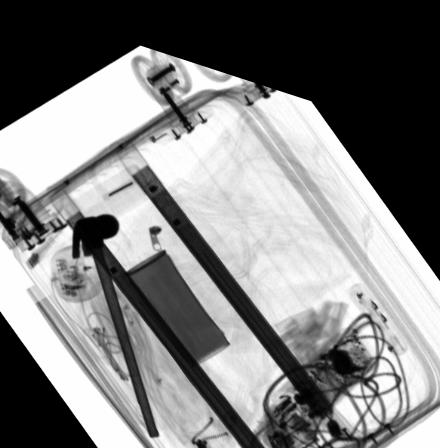Hammer: (70, 205, 158, 426)
